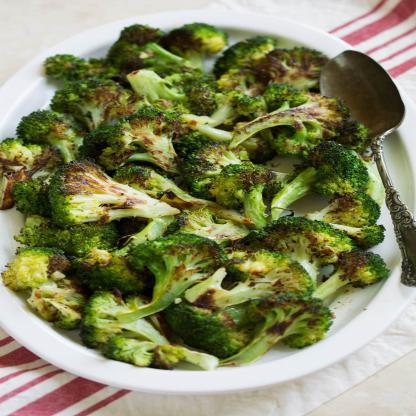broccoli: (0, 17, 391, 369)
